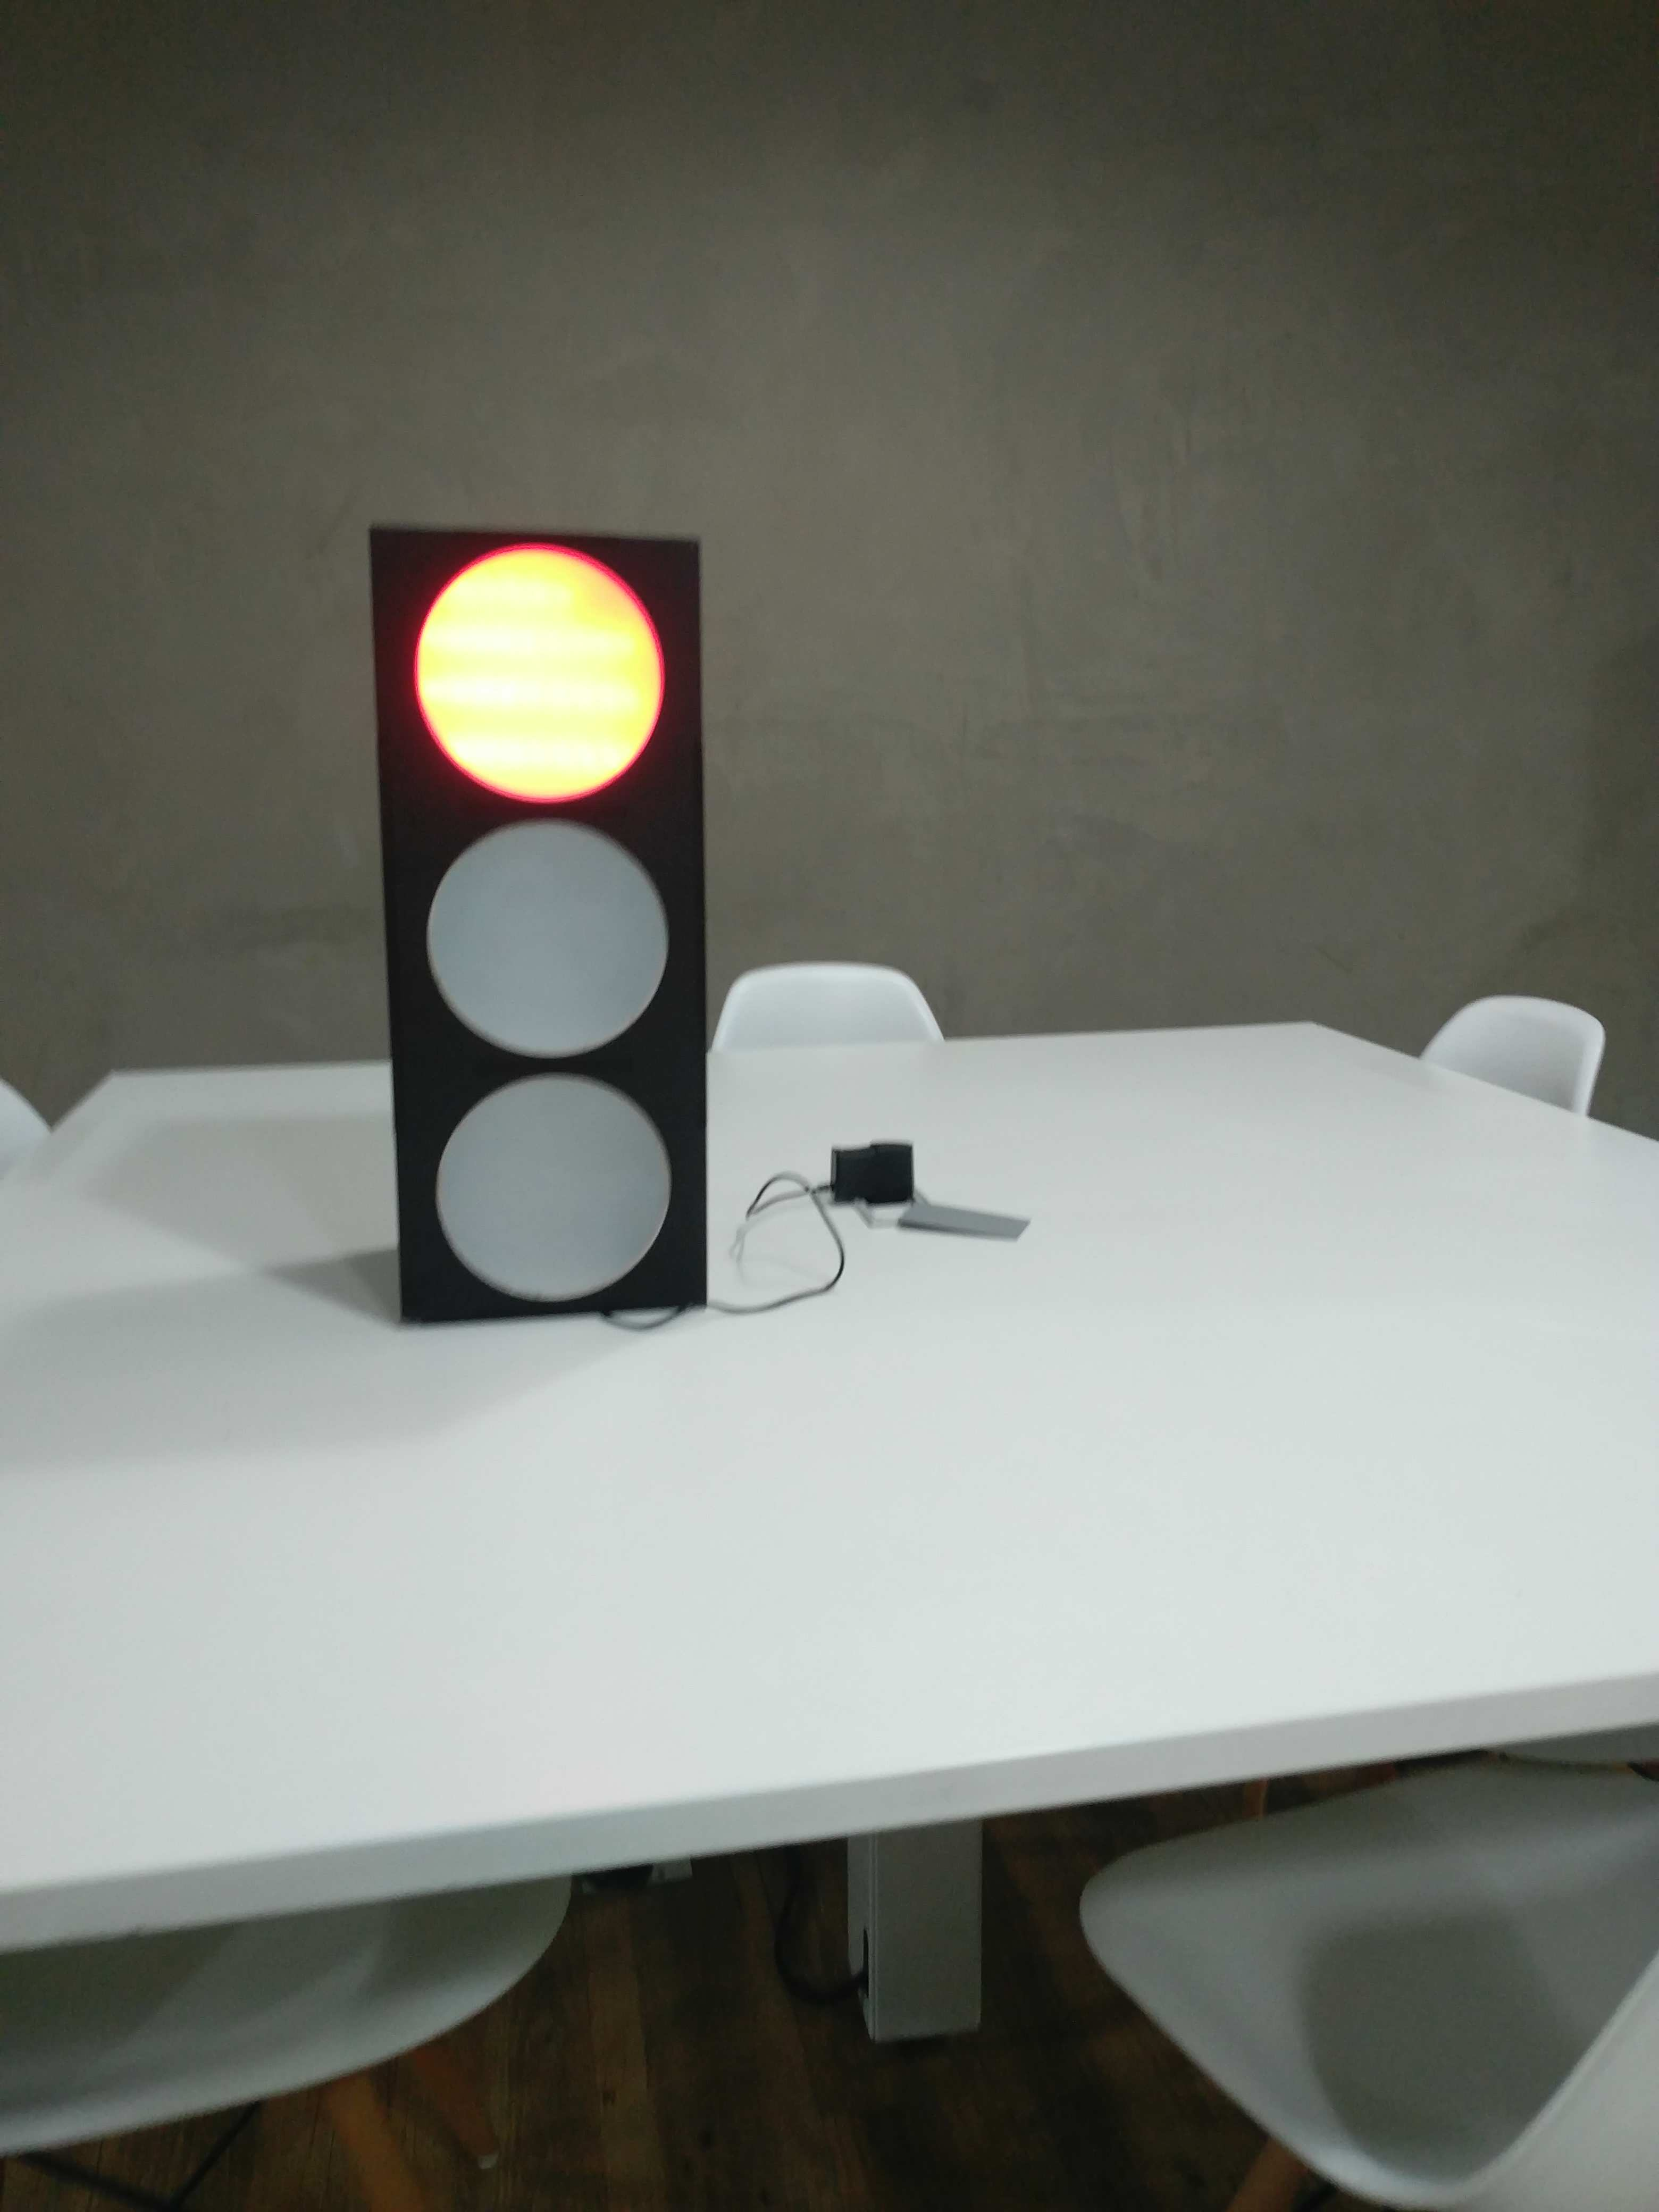stop: (355, 514, 714, 1320)
